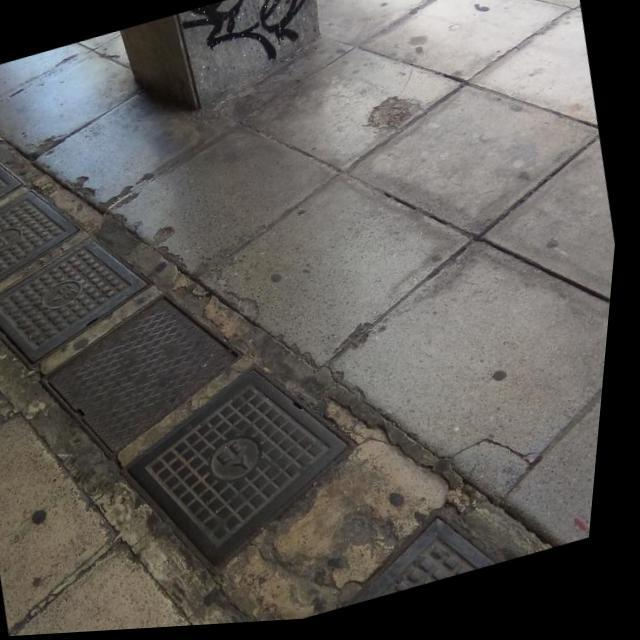-: (174, 0, 330, 89)
